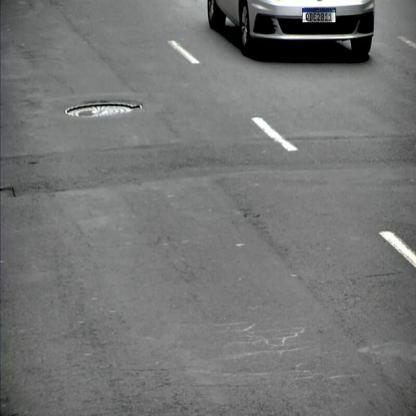PlacaM: (302, 8, 336, 23)
